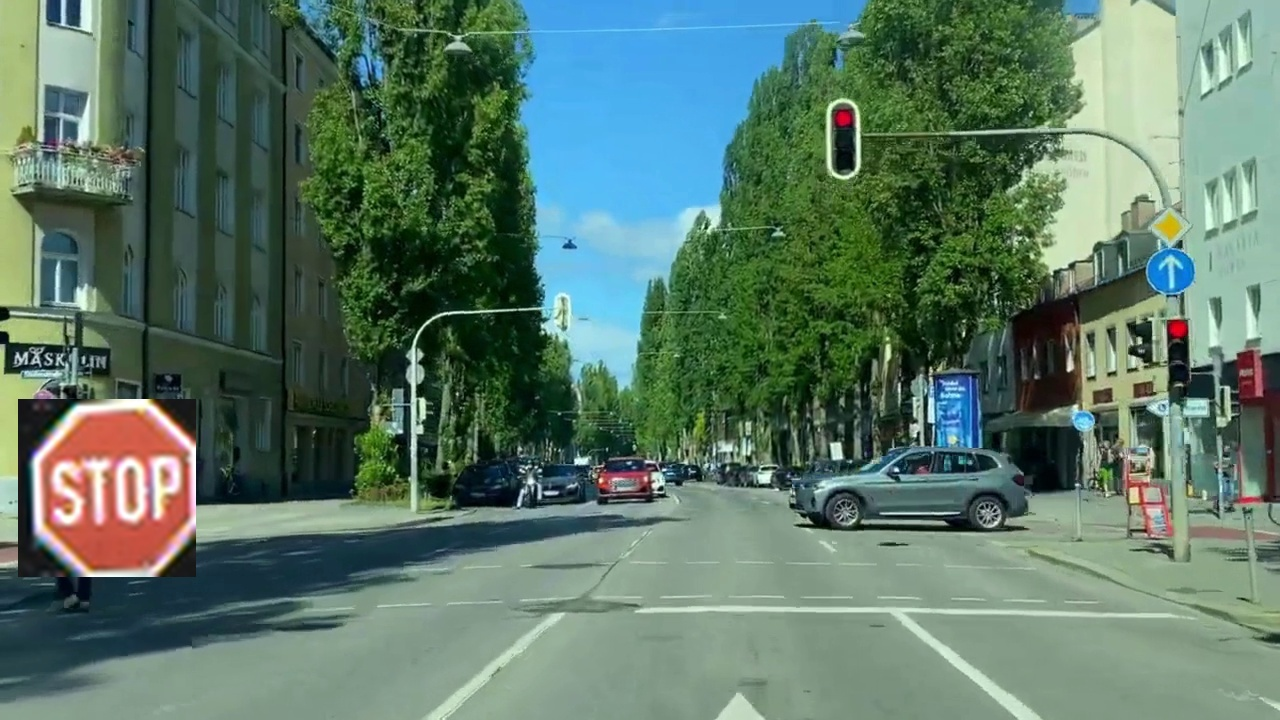Stop: (18, 399, 196, 577)
